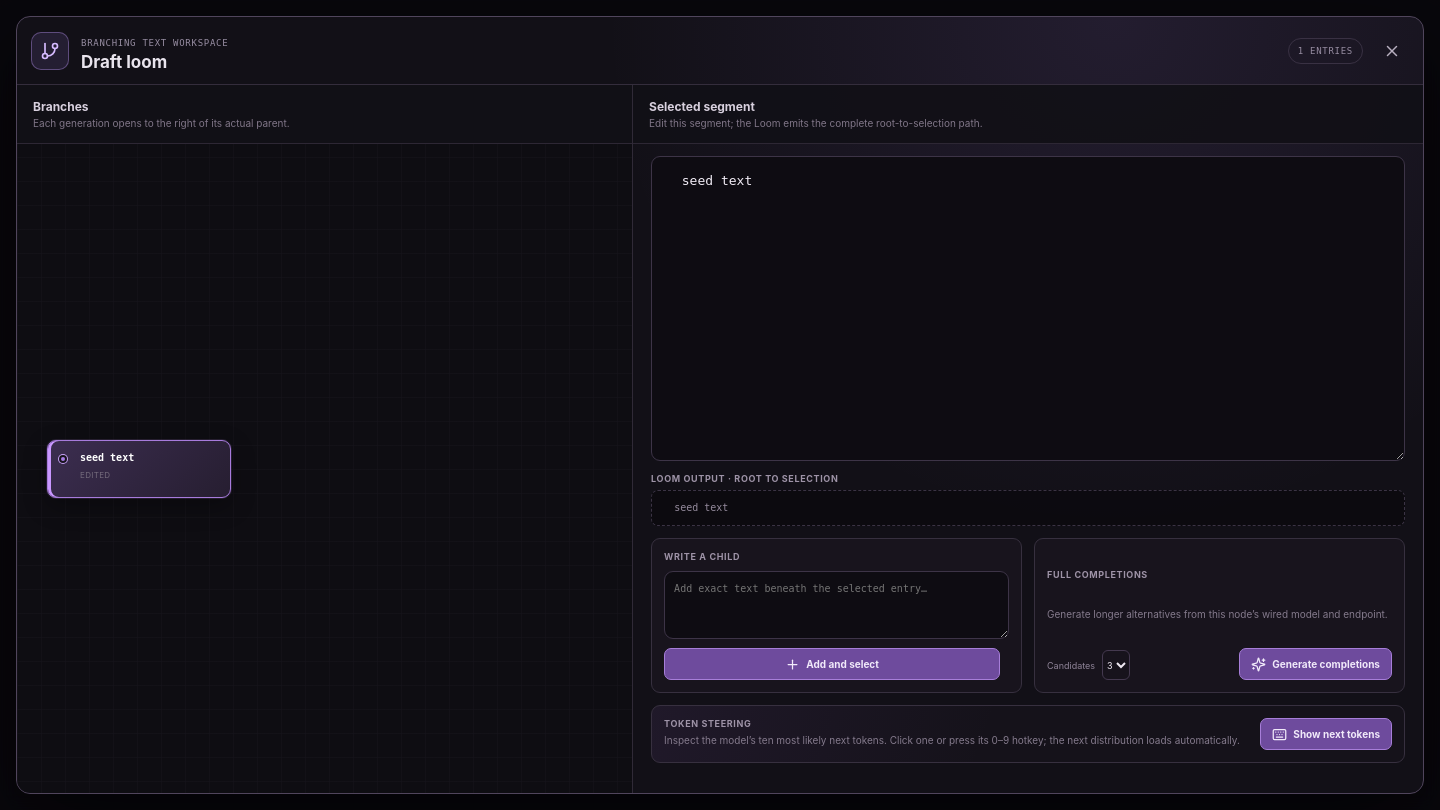
LoomEditor › inserts hotkey-selected tokens exactly and automatically probes the new prompt
The width and height of the screenshot is (1440, 810).
Click the button "Show next tokens" at (1326,734), box [1260,718,1392,750]
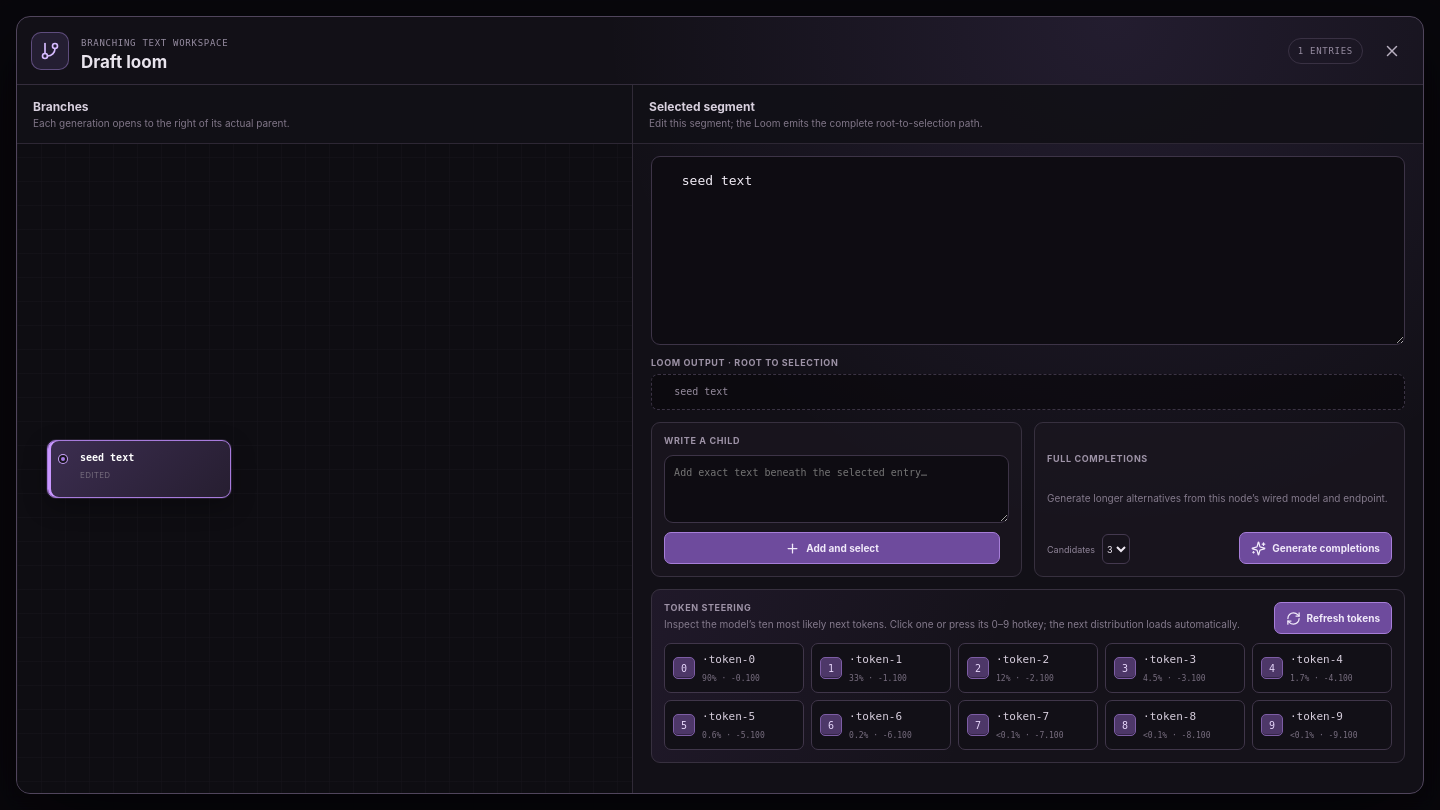
Expected: the number of buttons "0 ·token-0 90% · -0.100" is 10
Type "0" into the text box named "Manual loom branch text" at (837,489), box [664,455,1009,523]
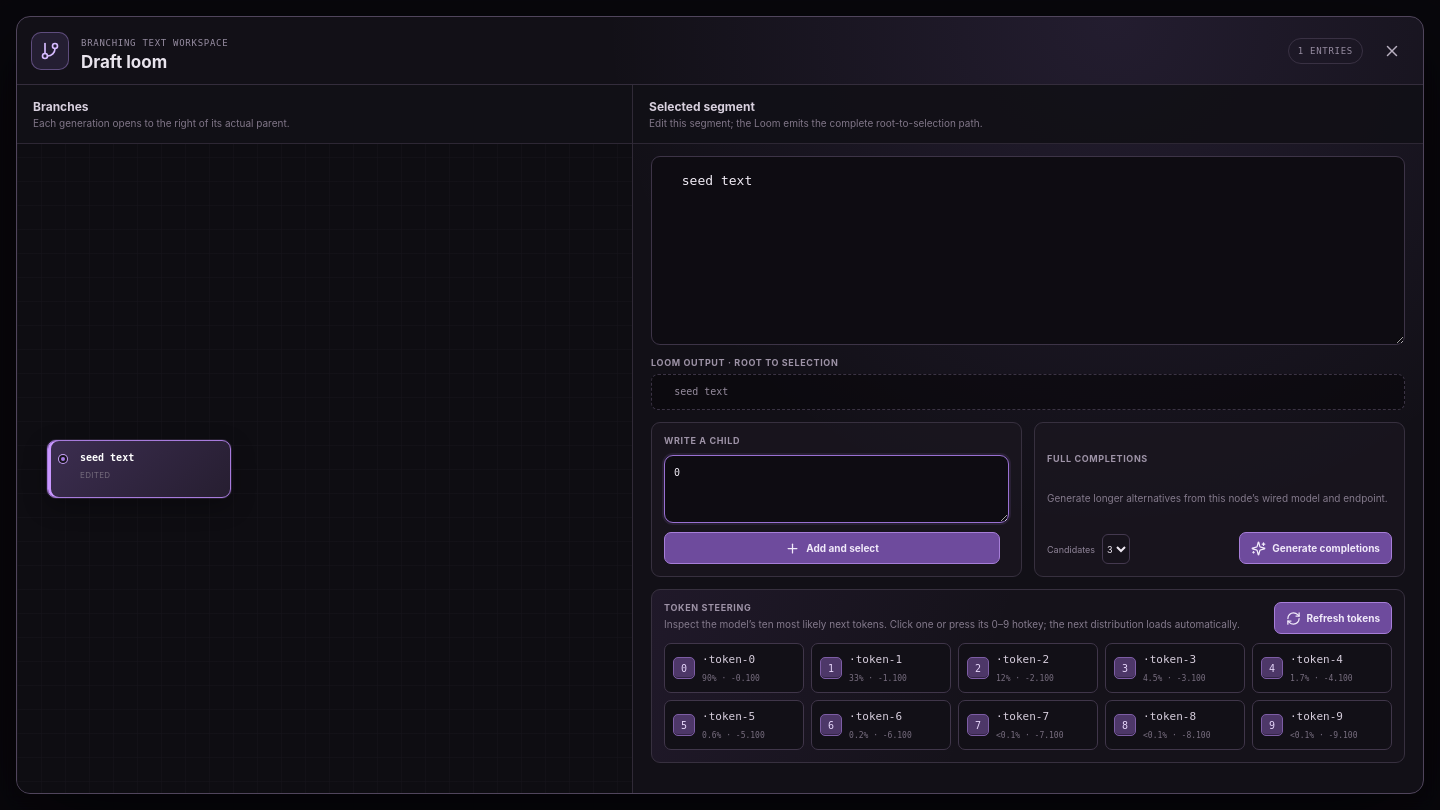
Expected: the text box named "Selected loom segment" holds "  seed text  ", [651,156,1405,344]
Click the text "Token steering" at (708,608), box [664,602,751,613]
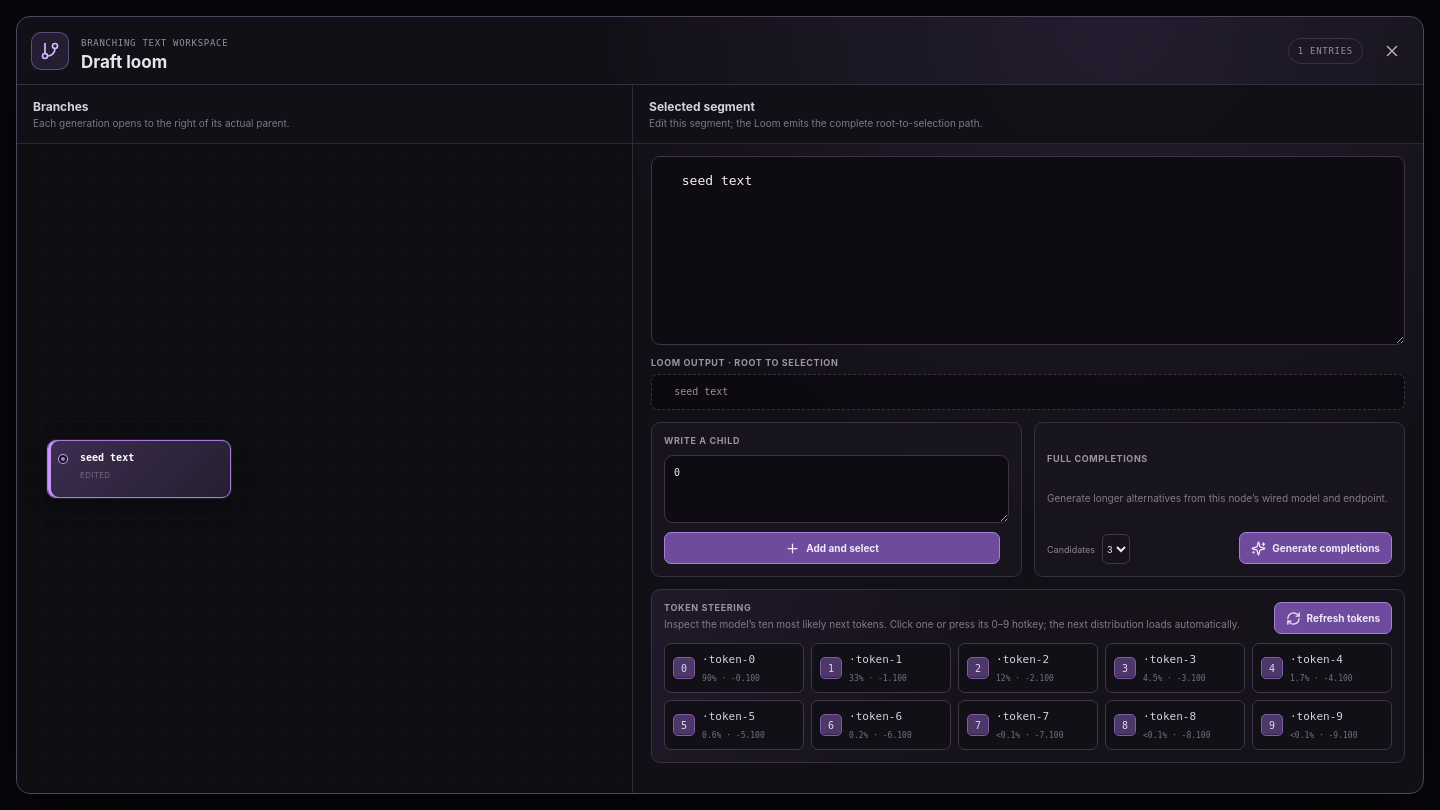
Type keys "0"
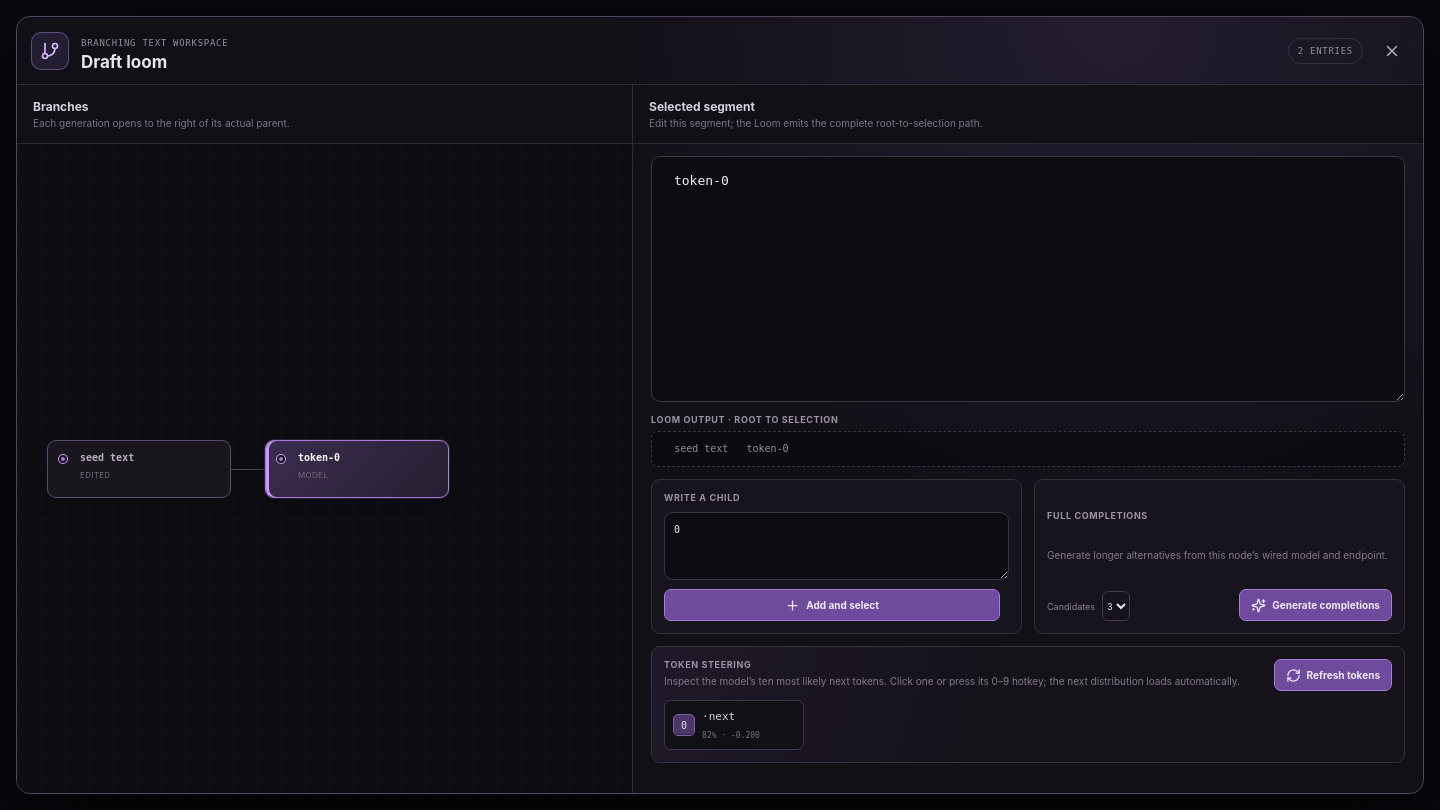
Expected: the text box named "Selected loom segment" holds " token-0", [651,156,1405,402]
Expected: the text "2 entries" is shown, [1288,38,1363,64]
